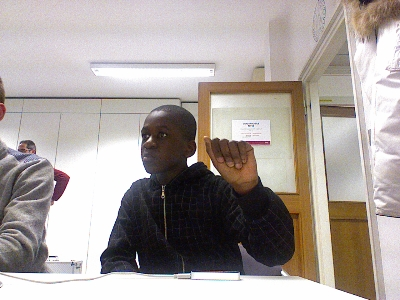石头: (202, 134, 259, 192)
